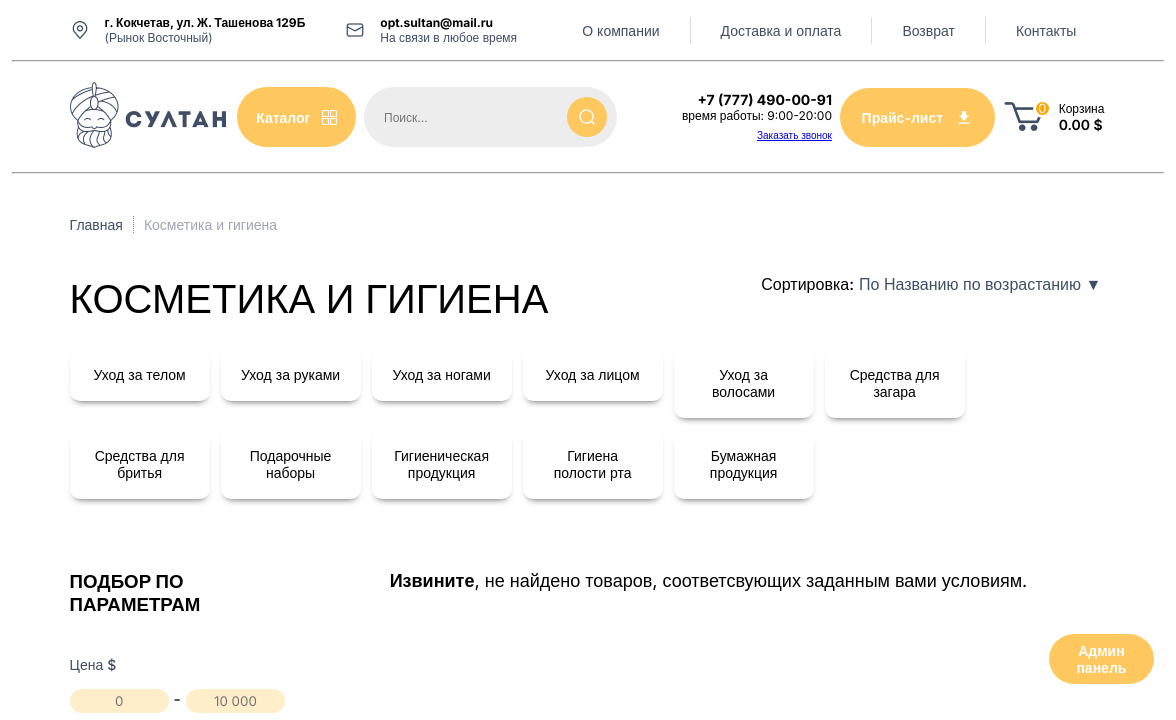
Test case: tests for routes › Route to basket page
Click the link with test id "basket-link" at x=1054, y=117, box [1003,94,1104,140]
(page scrolled)
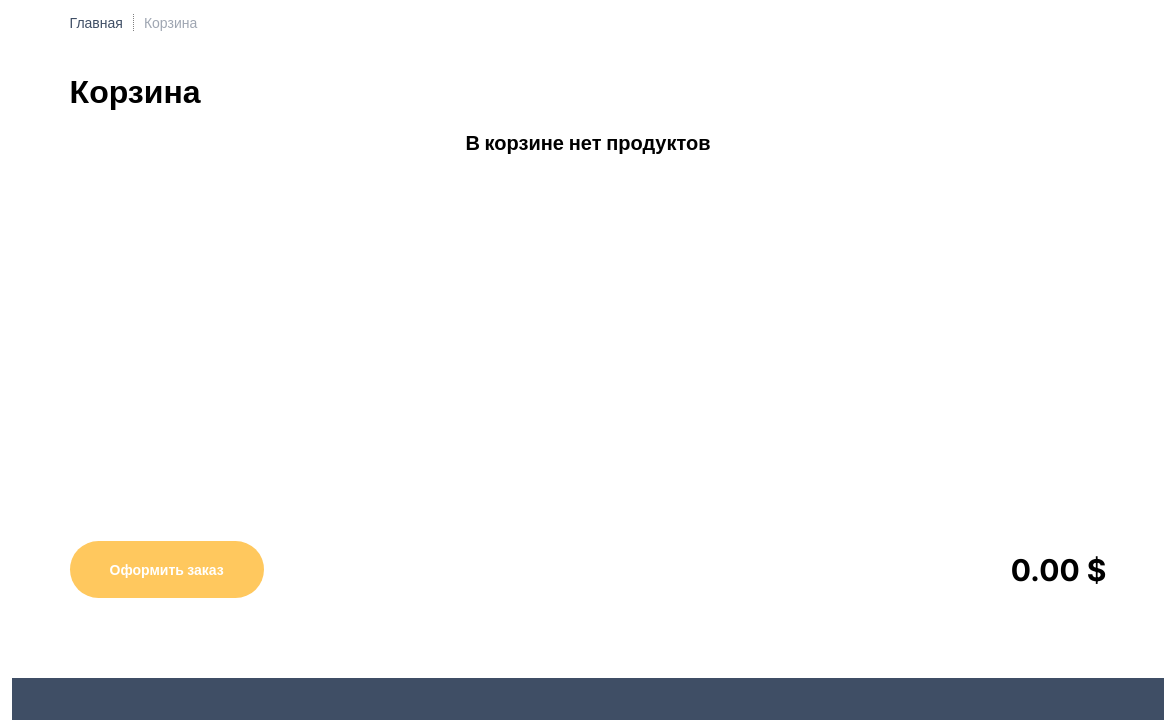
Expected: the element with test id "basket-page" is shown
